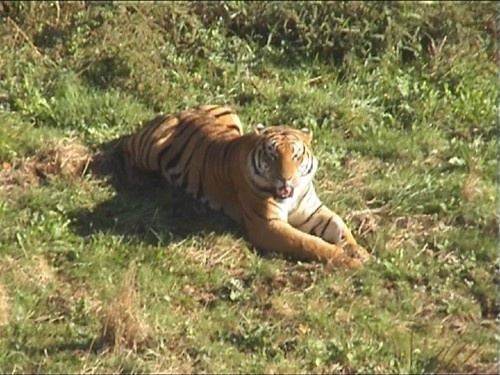tigre: (103, 105, 371, 269)
